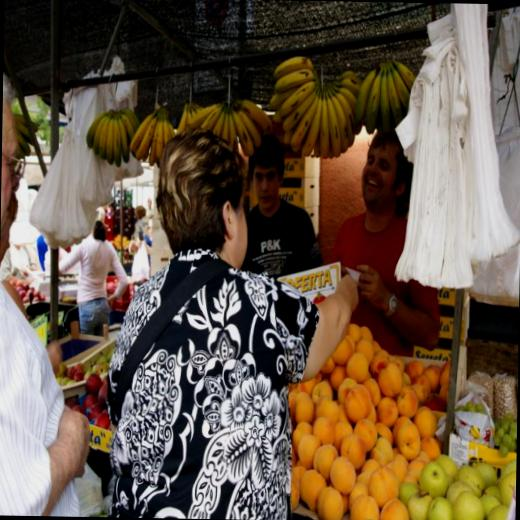Banana: (87, 50, 414, 170), (356, 48, 416, 132)
